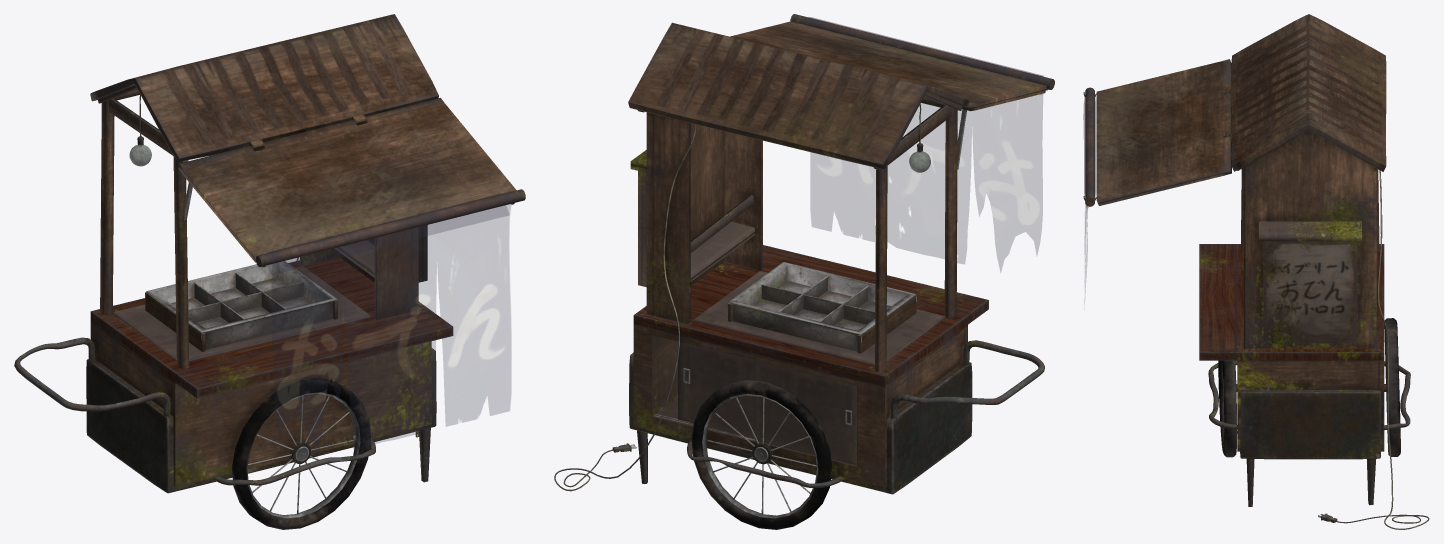
File: oden_stand_-_lowpoly_game_asset.glb
The picture shows the model from 3 angles, left to right: view 1: azimuth 30°, elevation 25°; view 2: azimuth 150°, elevation 25°; view 3: azimuth 270°, elevation 25°; orthographic projection. The views are drawn at different scales.
Parts seen in each view (by area): view 1: curtain:curtain1, polySurface17, pCube14, polySurface4, potshort2, polySurface6, polySurface34, roof_low:sidebox1, polySurface12, pCylinder4, roof_low:holder, beamA_low:holder (+5 smaller); view 2: polySurface4, polySurface17, curtain:curtain1, roof_low:sidebox1, potshort2, pCube14, polySurface6, polySurface36, beamA_low:polySurface1, group6_polySurface1, polySurface12, beamA_low:holder (+9 smaller); view 3: roof_low:sidebox1, polySurface4, pCube14, polySurface17, polySurface6, polySurface36, polySurface34, curtain:curtain1, pCylinder4, polySurface11, polySurface5, polySurface7.
Boxes of the visible parts, <box> form: curtain:curtain1: <box>267,192,511,456</box>; polySurface17: <box>90,257,453,486</box>; pCube14: <box>178,98,516,262</box>; polySurface4: <box>90,14,438,162</box>; potshort2: <box>146,261,336,349</box>; polySurface6: <box>86,348,436,493</box>; polySurface34: <box>232,378,370,529</box>; roof_low:sidebox1: <box>300,225,427,320</box>; polySurface12: <box>114,266,369,361</box>; pCylinder4: <box>256,189,525,266</box>; roof_low:holder: <box>100,100,114,315</box>; beamA_low:holder: <box>173,155,189,369</box>; polySurface4: <box>628,22,969,169</box>; polySurface17: <box>633,245,988,487</box>; curtain:curtain1: <box>804,17,1043,271</box>; roof_low:sidebox1: <box>630,112,762,323</box>; potshort2: <box>729,262,915,351</box>; pCube14: <box>730,21,1046,111</box>; polySurface6: <box>629,352,972,494</box>; polySurface36: <box>691,380,832,529</box>; beamA_low:polySurface1: <box>755,360,856,465</box>; group6_polySurface1: <box>678,342,754,438</box>; polySurface12: <box>694,271,945,365</box>; beamA_low:holder: <box>944,107,957,318</box>; roof_low:sidebox1: <box>1243,130,1376,348</box>; polySurface4: <box>1225,14,1386,171</box>; pCube14: <box>1096,59,1231,205</box>; polySurface17: <box>1199,244,1384,451</box>; polySurface6: <box>1240,390,1380,459</box>; polySurface36: <box>1384,318,1400,456</box>; polySurface34: <box>1218,360,1237,457</box>; curtain:curtain1: <box>1083,92,1095,303</box>; pCylinder4: <box>1085,87,1094,206</box>; polySurface11: <box>1335,170,1429,529</box>; polySurface5: <box>1208,360,1237,429</box>; polySurface7: <box>1384,361,1410,430</box>.
Bounding box in the file's own units: 25.85 × 26.16 × 21.2.
2 materials, 2 textured.
